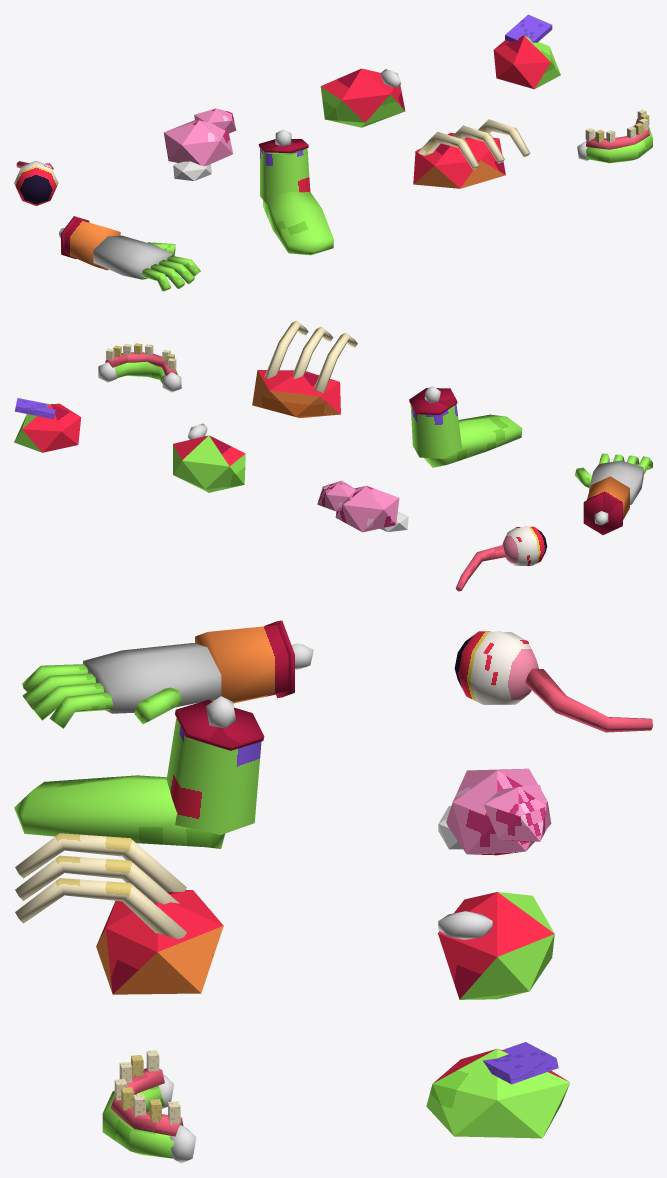
File: Zombie Gibs.fbx
3 views of the same model, one above another, from view 1: azimuth 30°, elevation 25°; view 2: azimuth 150°, elevation 25°; view 3: azimuth 270°, elevation 25° (orthographic). The views are drawn at different scales.
Visible parts, largest first — view 1: Zombie Gibs flesh chunk A, Zombie Gibs foot, Zombie Gibs rib chunk, Zombie Gibs flesh chunk B, Zombie Gibs brain lobe, Zombie Gibs hand palm, Zombie Gibs ankle, Zombie Gibs wrist, Zombie Gibs eyeball, Zombie Gibs jaw, Zombie Gibs flesh B shirt scrap, Zombie Gibs rib 0 (+6 smaller); view 2: Zombie Gibs rib chunk, Zombie Gibs flesh chunk A, Zombie Gibs foot, Zombie Gibs flesh chunk B, Zombie Gibs ankle, Zombie Gibs brain lobe, Zombie Gibs eyeball, Zombie Gibs hand palm, Zombie Gibs wrist stump, Zombie Gibs ankle stump, Zombie Gibs wrist, Zombie Gibs rib 0 (+7 smaller); view 3: Zombie Gibs foot, Zombie Gibs rib chunk, Zombie Gibs flesh chunk A, Zombie Gibs flesh chunk B, Zombie Gibs ankle, Zombie Gibs hand palm, Zombie Gibs wrist, Zombie Gibs eyeball, Zombie Gibs brain lobe, Zombie Gibs rib 2, Zombie Gibs rib 0, Zombie Gibs rib 1 (+12 smaller).
Boxes of the visible parts, x1,y1,x2,y2 form: Zombie Gibs flesh chunk A: (320,68,405,127); Zombie Gibs foot: (263,191,333,255); Zombie Gibs rib chunk: (413,132,505,188); Zombie Gibs flesh chunk B: (493,35,560,89); Zombie Gibs brain lobe: (163,120,233,165); Zombie Gibs hand palm: (93,235,172,279); Zombie Gibs ankle: (260,148,310,203); Zombie Gibs wrist: (64,219,120,270); Zombie Gibs eyeball: (14,160,58,205); Zombie Gibs jaw: (585,127,652,163); Zombie Gibs flesh B shirt scrap: (505,14,552,42); Zombie Gibs rib 0: (418,131,479,169); Zombie Gibs rib chunk: (252,370,340,418); Zombie Gibs flesh chunk A: (173,435,245,492); Zombie Gibs foot: (424,414,522,467); Zombie Gibs flesh chunk B: (14,403,81,452); Zombie Gibs ankle: (410,404,462,458); Zombie Gibs brain lobe: (335,485,399,532); Zombie Gibs eyeball: (502,526,547,565); Zombie Gibs hand palm: (589,460,643,504); Zombie Gibs wrist stump: (583,493,622,534); Zombie Gibs ankle stump: (409,388,457,414); Zombie Gibs wrist: (587,476,629,519); Zombie Gibs rib 0: (314,332,357,393); Zombie Gibs foot: (14,775,224,848); Zombie Gibs rib chunk: (96,890,223,994); Zombie Gibs flesh chunk A: (438,892,554,999); Zombie Gibs flesh chunk B: (426,1048,569,1138); Zombie Gibs ankle: (166,718,261,834); Zombie Gibs hand palm: (83,643,221,713); Zombie Gibs wrist: (195,625,288,703); Zombie Gibs eyeball: (454,631,538,704); Zombie Gibs brain lobe: (446,768,551,855); Zombie Gibs rib 2: (15,878,186,939); Zombie Gibs rib 0: (15,833,186,892); Zombie Gibs rib 1: (15,855,179,904).
Size of the model in its own units: 1.11 by 0.178 by 0.6016.
